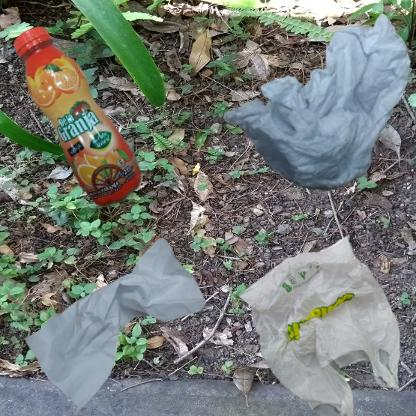bolsa: (213, 213, 416, 416)
botella: (10, 10, 169, 256)
papel: (10, 213, 226, 416), (213, 10, 416, 206)
